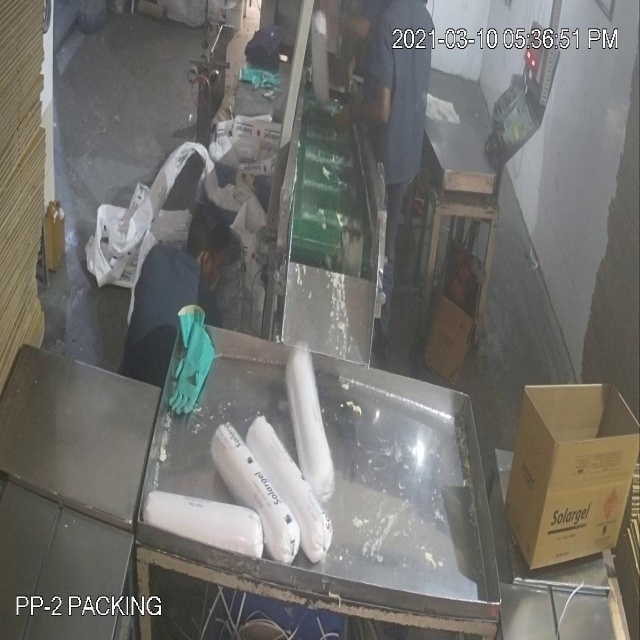Sin_guantes: (332, 78, 396, 152)
